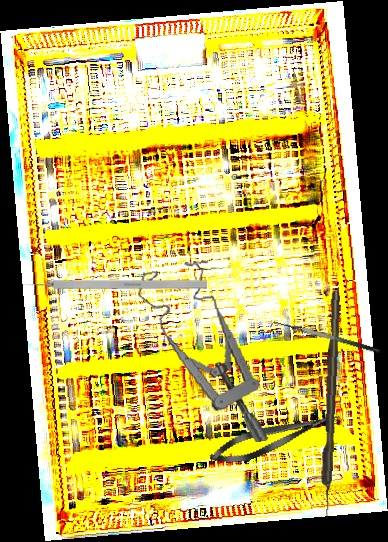Hook Surgical: (319, 290, 342, 519), (19, 280, 207, 289)
Micro Scissor: (206, 403, 344, 472)
Spatula Surgical: (269, 315, 381, 364)
Speculum: (135, 254, 270, 455)
